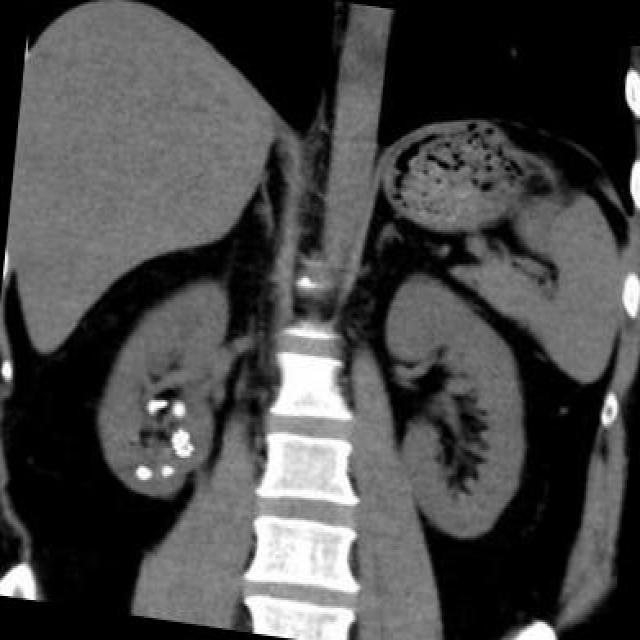Tas_Var: (145, 393, 169, 419), (169, 425, 193, 451), (132, 461, 156, 483), (171, 398, 187, 420), (157, 460, 175, 478), (172, 449, 193, 461), (186, 441, 196, 451), (170, 435, 180, 443)
